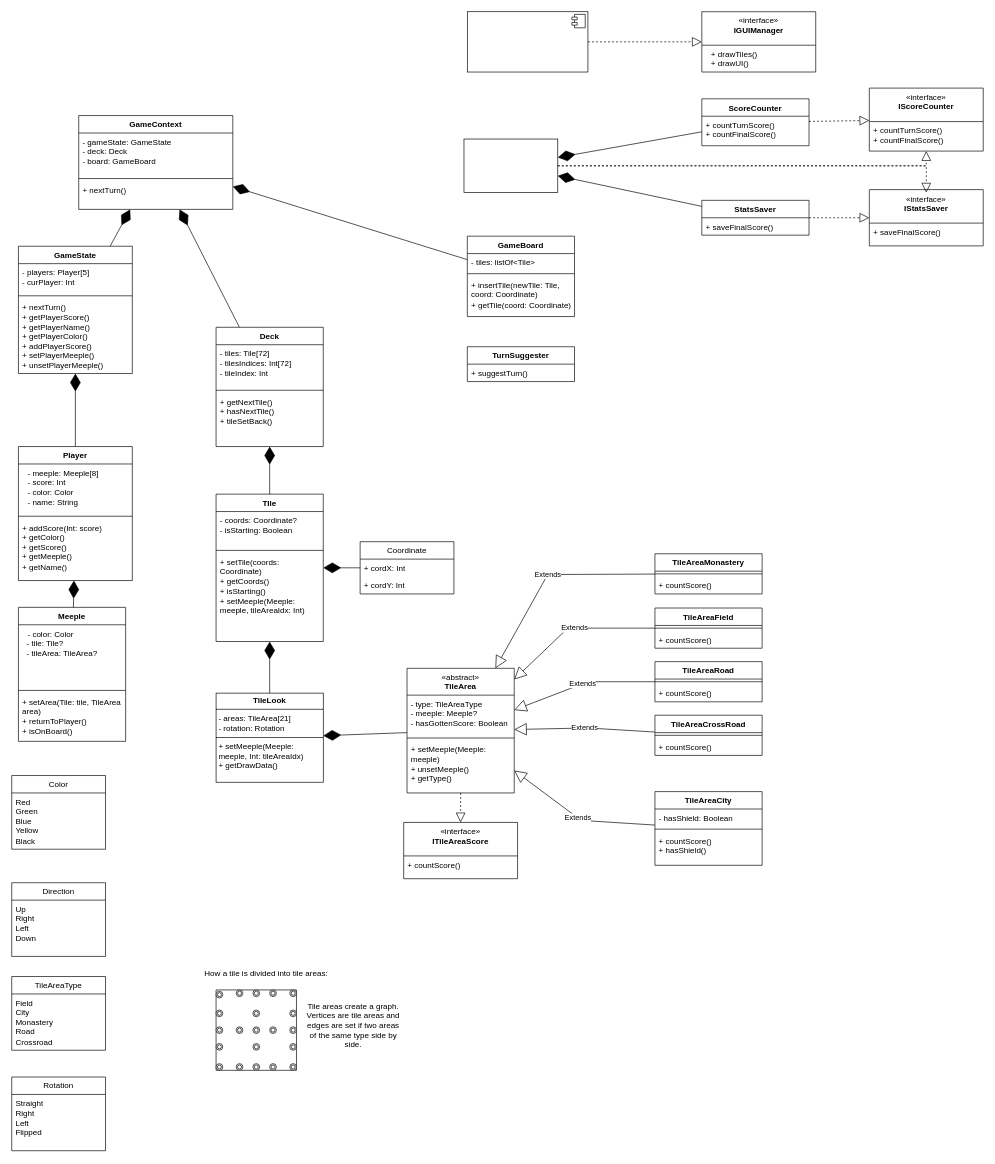
This 995x1164 diagram has some shape labels left out. Here are the shapes that lost their labels. From the top down, the centre of each, then its label:
the point at 527,41: GUIManager + drawTiles() + drawUI()
the point at 510,165: GameScore + countTurnScore() + countFinalScore() + saveFinalScore()
